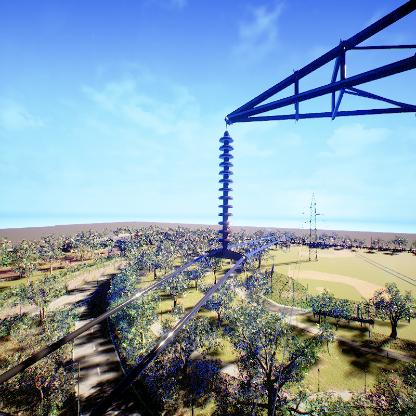insulator: (217, 134, 236, 246)
